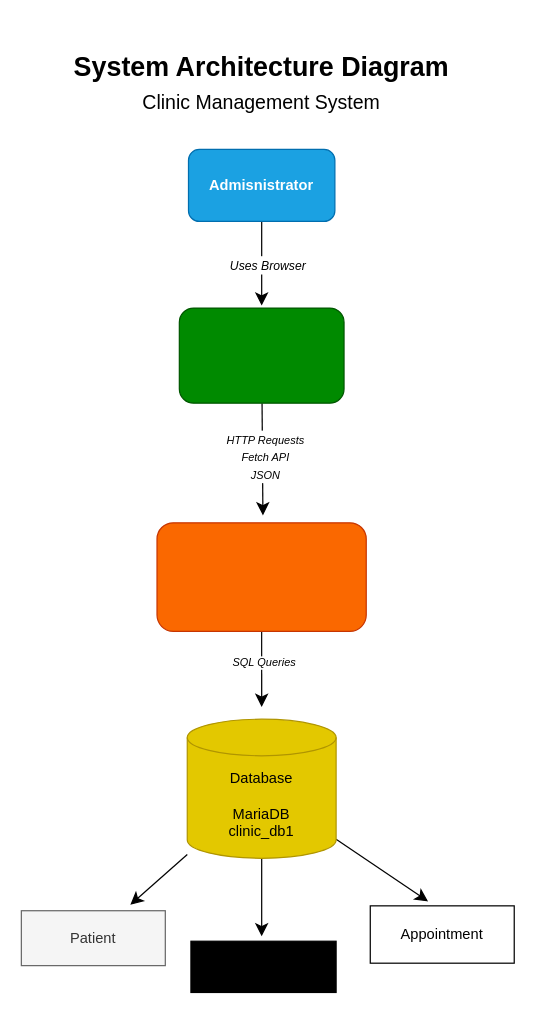
The diagram is 536 pixels wide and 1014 high, and some of its shapes have lost their labels. The shapes that lost their labels are listed below. From the top down, each one's centre as x and y in pixels, then its label:
the point at 261,355: Frontend HTML CSS JavaScript
the point at 261,576: Backend Node.js Express.js REST API
